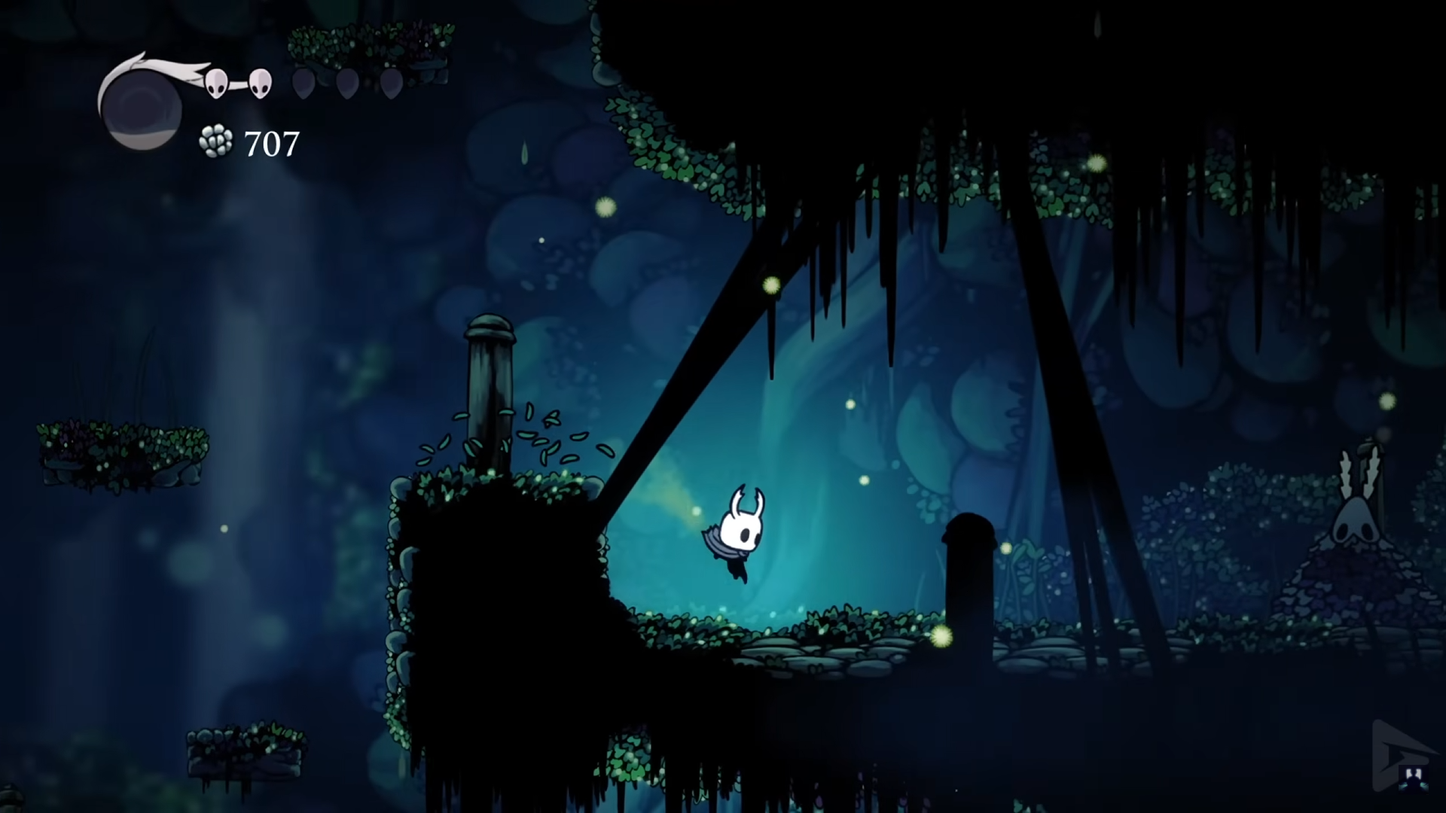HK: (700, 482, 767, 587)
